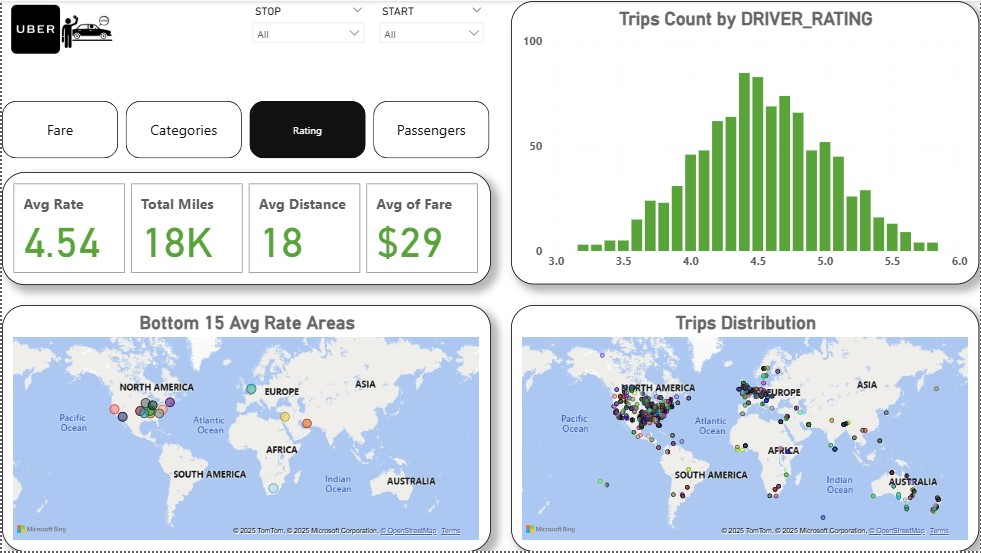

This screenshot's page, from the dashboard's own definition file:
{"tool":"powerbi","page":{"name":"Rating","canvas":[1280,720],"ordinal":2},"visuals":[{"type":"map","title":"Bottom 15 Avg Rate Areas","fields":{"Size":["MyMesaures.Avg Rate"],"Category":["cleaned_uber_data1.START"],"Series":["cleaned_uber_data1.STOP"]},"box":[0,398.1,640,322.5],"z":0},{"type":"pageNavigator","box":[0,131,640,75.6],"z":1000},{"type":"map","title":"Trips Distribution","fields":{"Category":["cleaned_uber_data1.STOP"],"Series":["cleaned_uber_data1.START"]},"box":[666.9,398.1,613.1,322.5],"z":2000},{"type":"lineClusteredColumnComboChart","fields":{"Category":["cleaned_uber_data1.DRIVER_RATING"],"Y":["MyMesaures.Trips Count"]},"box":[666.9,0,613.1,371.2],"z":3000},{"type":"image","box":[0,0,87.3,73.9],"z":4000},{"type":"image","box":[73.9,0,75.6,80.6],"z":5000},{"type":"cardVisual","fields":{"Data":["MyMesaures.Avg Rate","MyMesaures.Total Miles","MyMesaures.avg Trip Distance","Avg(cleaned_uber_data1.FARE_AMOUNT)"]},"box":[0,223.4,640,147.8],"z":6000},{"type":"slicer","fields":{"Values":["cleaned_uber_data1.START"]},"box":[483.8,0,156.2,68.9],"z":7000},{"type":"slicer","fields":{"Values":["cleaned_uber_data1.STOP"]},"box":[317.5,0,166.3,68.9],"z":8000}]}

Visuals, with their boxes in screenshot pixels (x1, y1, x2, y2), scaled from the page's 1280x720 canvas onto the 981x553 screenshot:
"Bottom 15 Avg Rate Areas" map: 0:306:490:552
pageNavigator: 0:101:490:159
"Trips Distribution" map: 511:306:980:552
lineClusteredColumnComboChart - cleaned_uber_data1.DRIVER_RATING x MyMesaures.Trips Count: 511:0:980:285
image: 0:0:67:57
image: 57:0:115:62
cardVisual - MyMesaures.Avg Rate x MyMesaures.Total Miles: 0:172:490:285
slicer - cleaned_uber_data1.START: 371:0:490:53
slicer - cleaned_uber_data1.STOP: 243:0:371:53
